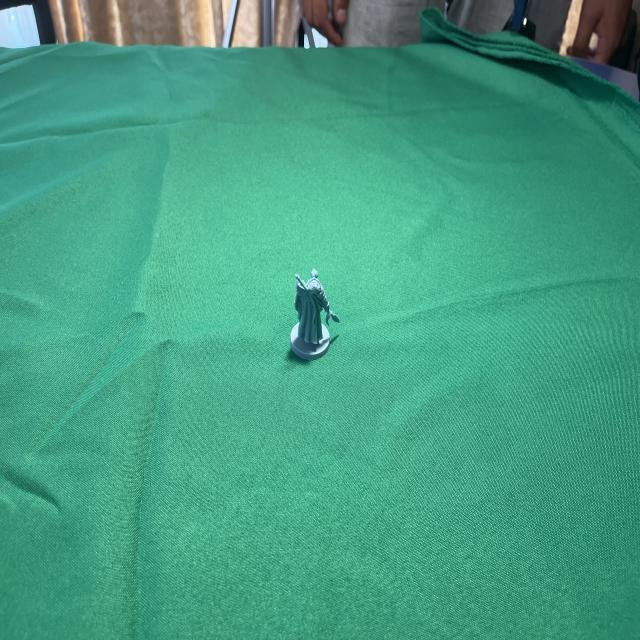isis_follower: (285, 266, 343, 360)
